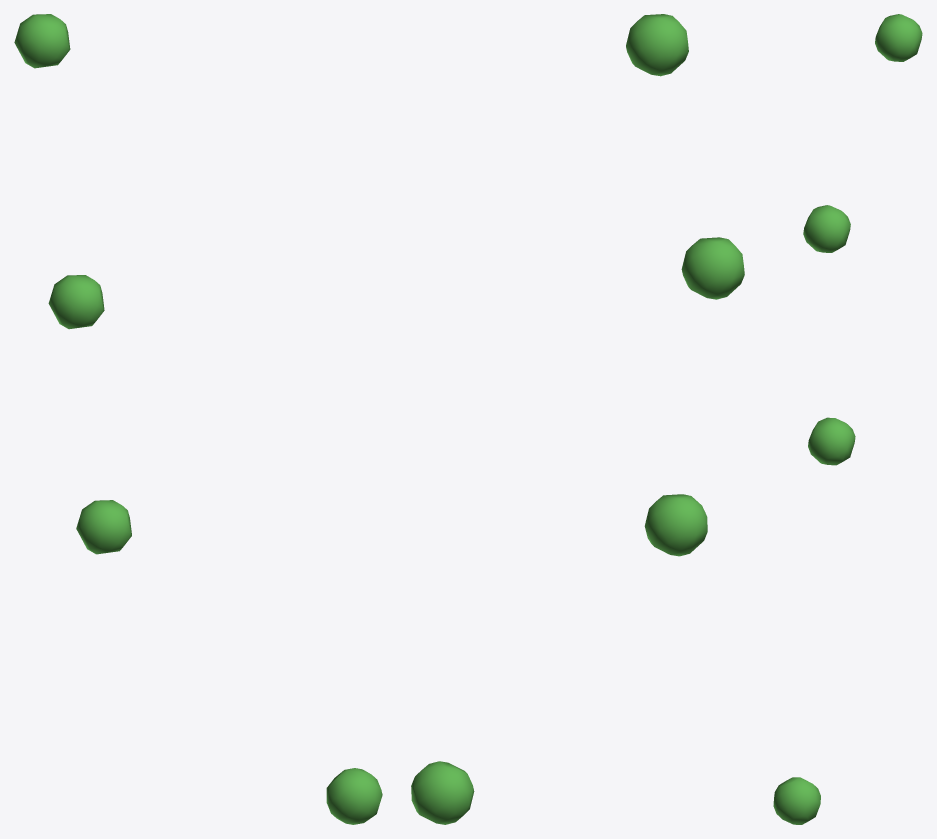
The model's file is linfatico-lateral-pericardial-nodes.glb.
3 views of the same model, side by side, from view 1: azimuth 30°, elevation 25°; view 2: azimuth 150°, elevation 25°; view 3: azimuth 270°, elevation 25° (orthographic). The views are drawn at different scales.
Parts seen in each view (by area): view 1: Lateral pericardial nodes; view 2: Lateral pericardial nodes; view 3: Lateral pericardial nodes.
Boxes of the visible parts, x1,y1,x2,y2 form: Lateral pericardial nodes: (14, 14, 382, 824); Lateral pericardial nodes: (411, 14, 744, 824); Lateral pericardial nodes: (773, 14, 922, 824).
Size of the model in its own units: 0.016 by 0.0411 by 0.00791.
